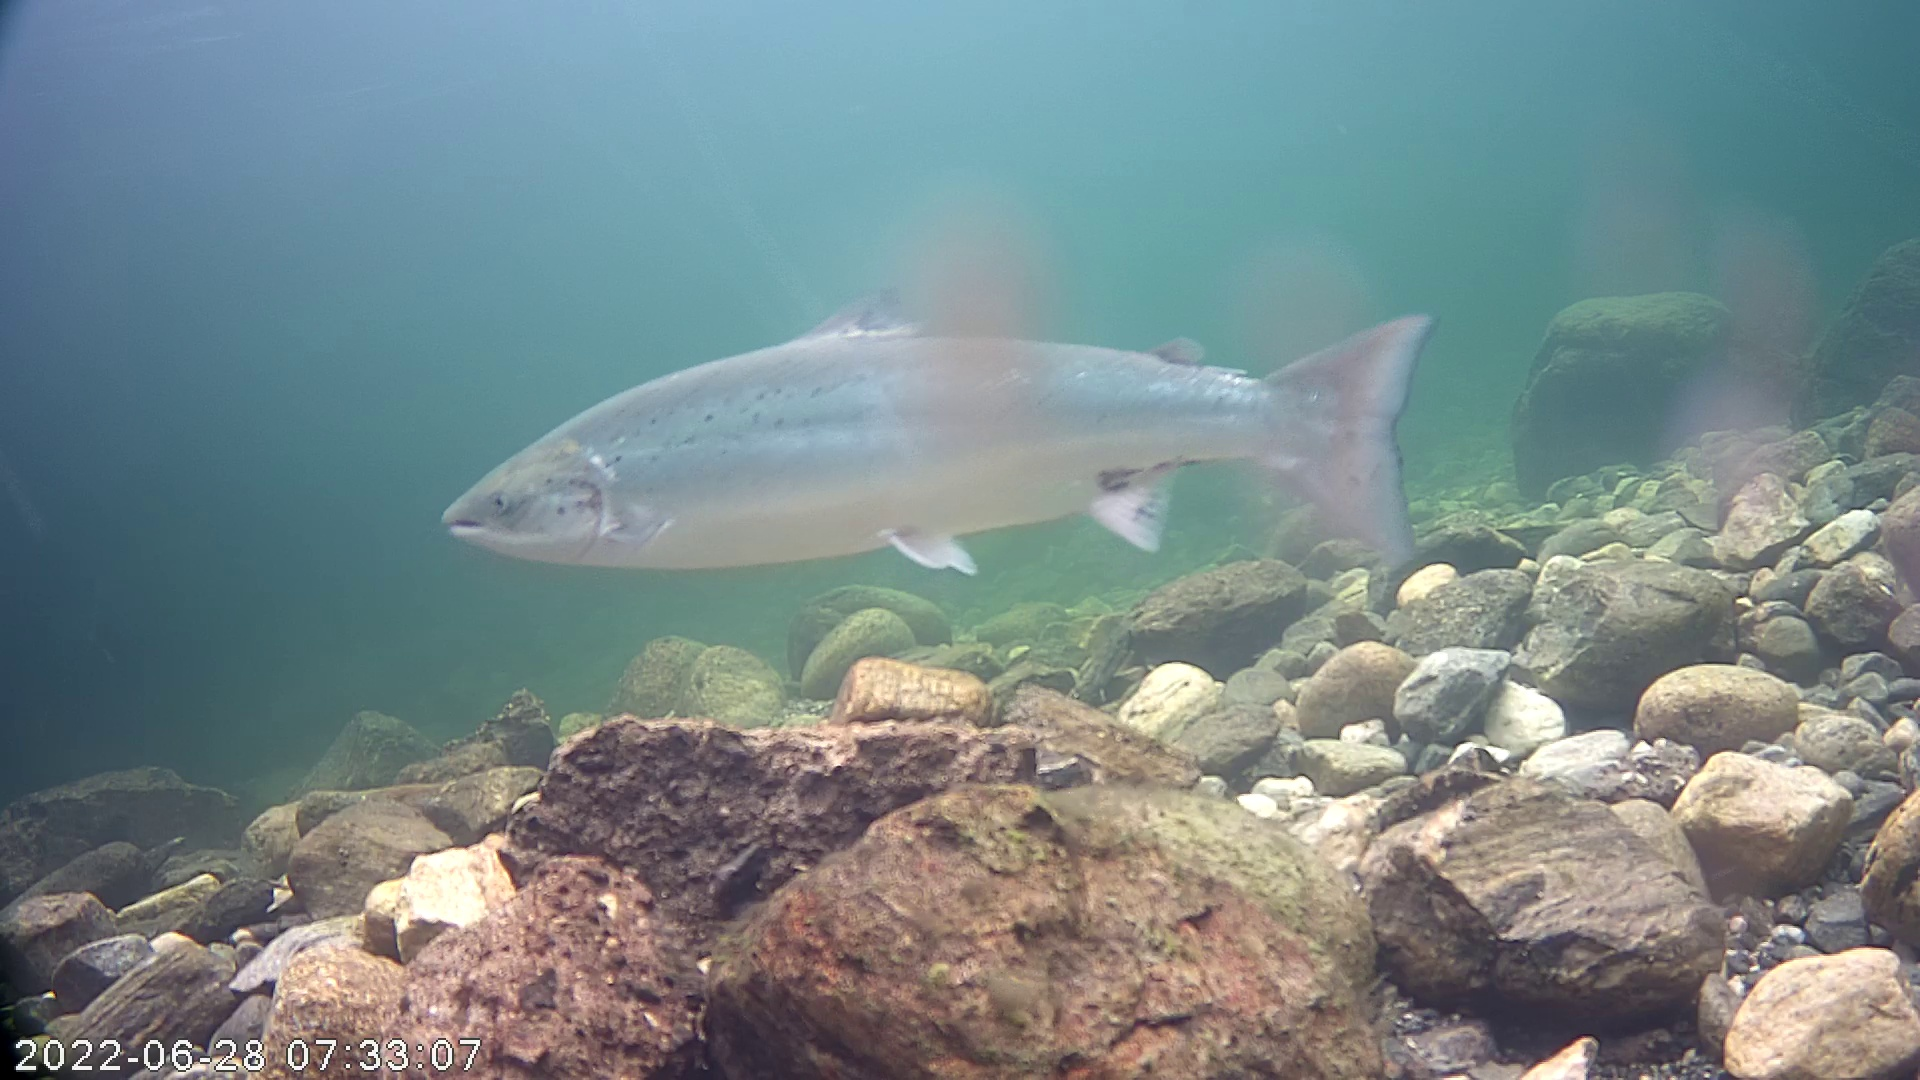salmon: (429, 175, 1458, 625)
